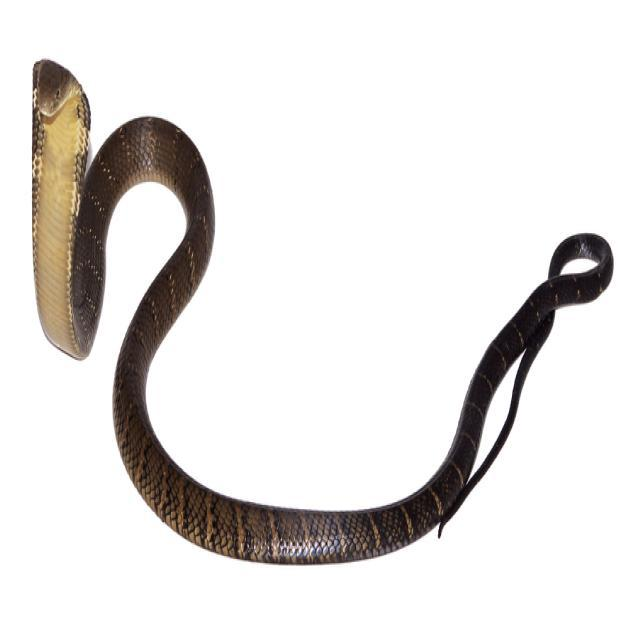Snake: (30, 56, 614, 566)
